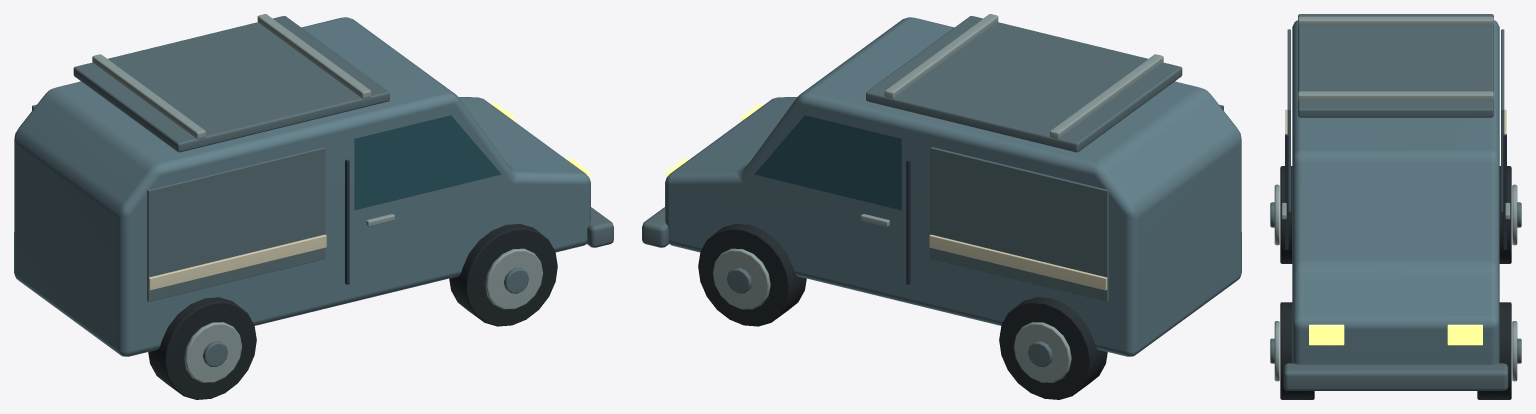
Rendered from service_van.glb.
3 renders of one model, left to right at view 1: azimuth 30°, elevation 25°; view 2: azimuth 150°, elevation 25°; view 3: azimuth 270°, elevation 25°, orthographic. The views are drawn at different scales.
Visible parts, largest first — view 1: Blue, Steel, Rubber, Glass, Edge, Cream, Ink; view 2: Blue, Steel, Rubber, Glass, Edge, Cream, Ink; view 3: Blue, Steel, Edge, Rubber, Amber, Ink.
Part boxes in pixels (bbox=[...]): Blue: bbox=[14, 17, 590, 356]; Steel: bbox=[32, 16, 613, 366]; Rubber: bbox=[148, 224, 557, 399]; Glass: bbox=[354, 115, 501, 210]; Edge: bbox=[92, 14, 542, 382]; Cream: bbox=[148, 234, 326, 290]; Ink: bbox=[345, 159, 349, 284]; Blue: bbox=[665, 17, 1241, 356]; Steel: bbox=[642, 16, 1223, 366]; Rubber: bbox=[698, 224, 1107, 399]; Glass: bbox=[754, 115, 901, 210]; Edge: bbox=[713, 14, 1163, 382]; Cream: bbox=[929, 234, 1107, 290]; Ink: bbox=[906, 159, 910, 284]; Blue: bbox=[1292, 20, 1499, 364]; Steel: bbox=[1270, 14, 1521, 390]; Edge: bbox=[1274, 16, 1517, 381]; Rubber: bbox=[1280, 166, 1511, 399]; Amber: bbox=[1309, 324, 1482, 345]; Ink: bbox=[1285, 134, 1506, 249].
Size of the model in its own units: 4.14 by 2.11 by 1.99.
